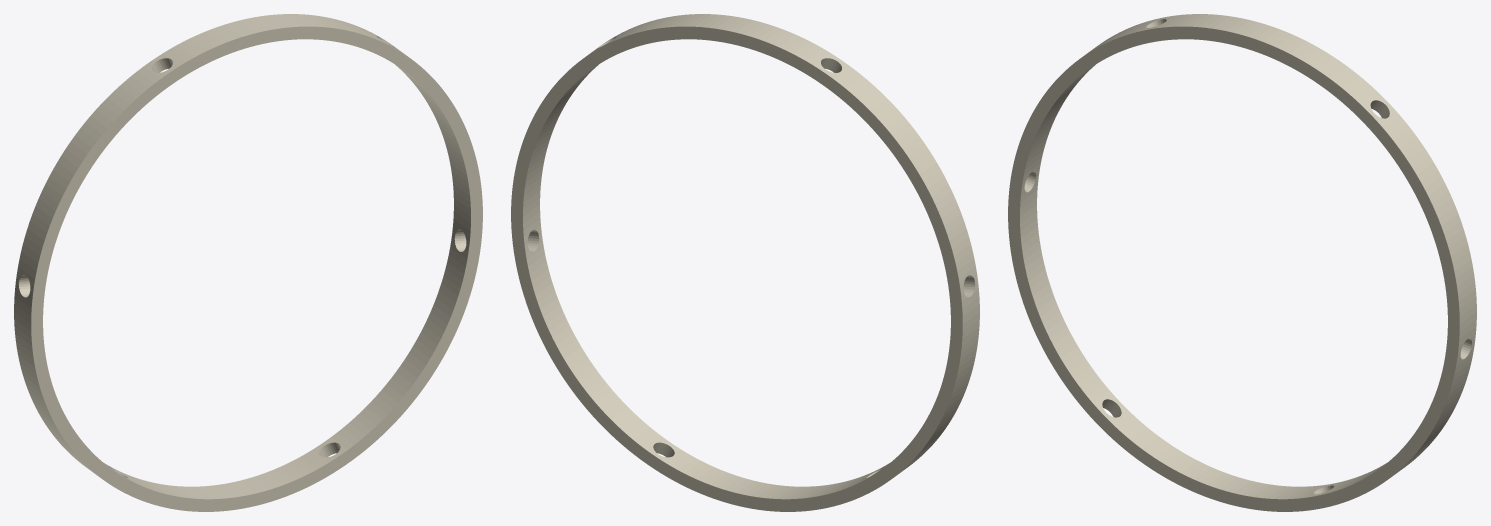
The model's file is 4_Lid_Spacer.glb.
3 views of the same model, side by side, from view 1: azimuth 30°, elevation 25°; view 2: azimuth 150°, elevation 25°; view 3: azimuth 330°, elevation 25° (orthographic).
Parts seen in each view (by area): view 1: world; view 2: world; view 3: world.
Part boxes in pixels (left/top/right/bottom): world: left=14, top=14, right=482, bottom=511; world: left=511, top=14, right=979, bottom=511; world: left=1008, top=14, right=1476, bottom=511.
Size of the model in its own units: 152 by 152 by 10.
